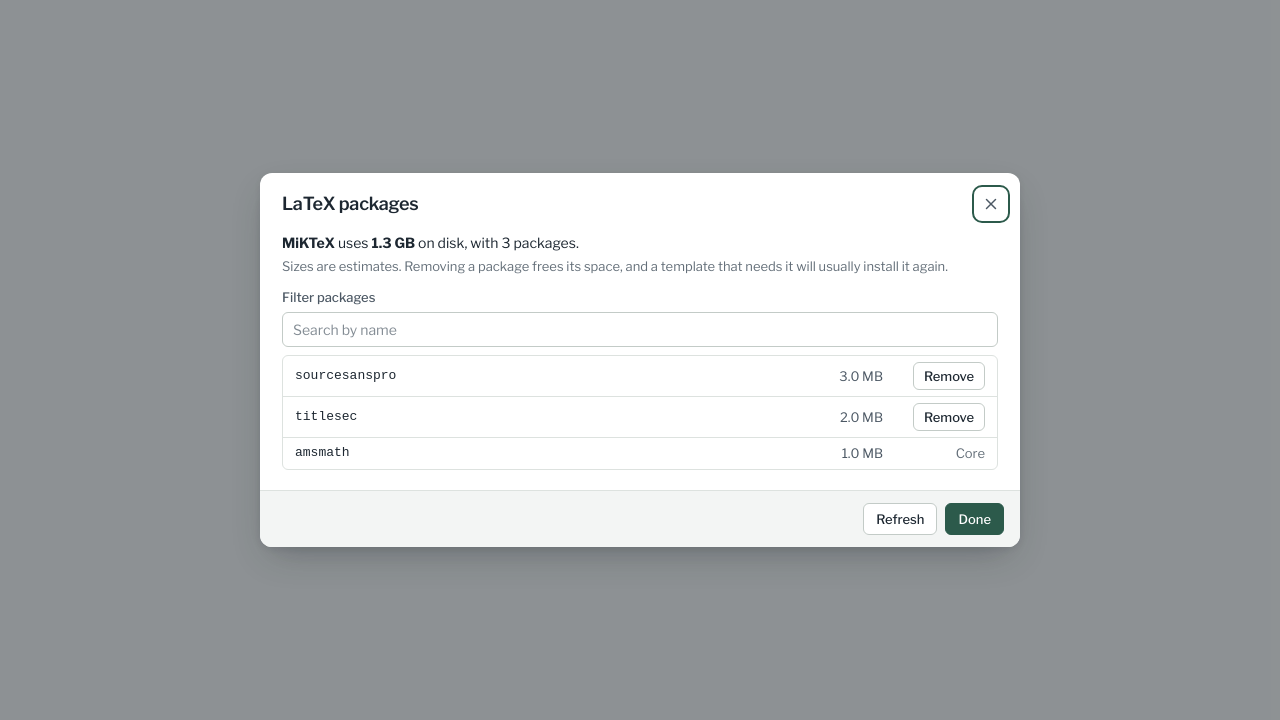
Scenario: PackageManager component › lets the user back out of a removal
expect the text "titlesec" is shown: met, box x1=295 y1=409 x2=357 y2=424
Click the button with aria-label "Remove titlesec" at [949, 417], box x1=913 y1=403 x2=985 y2=431
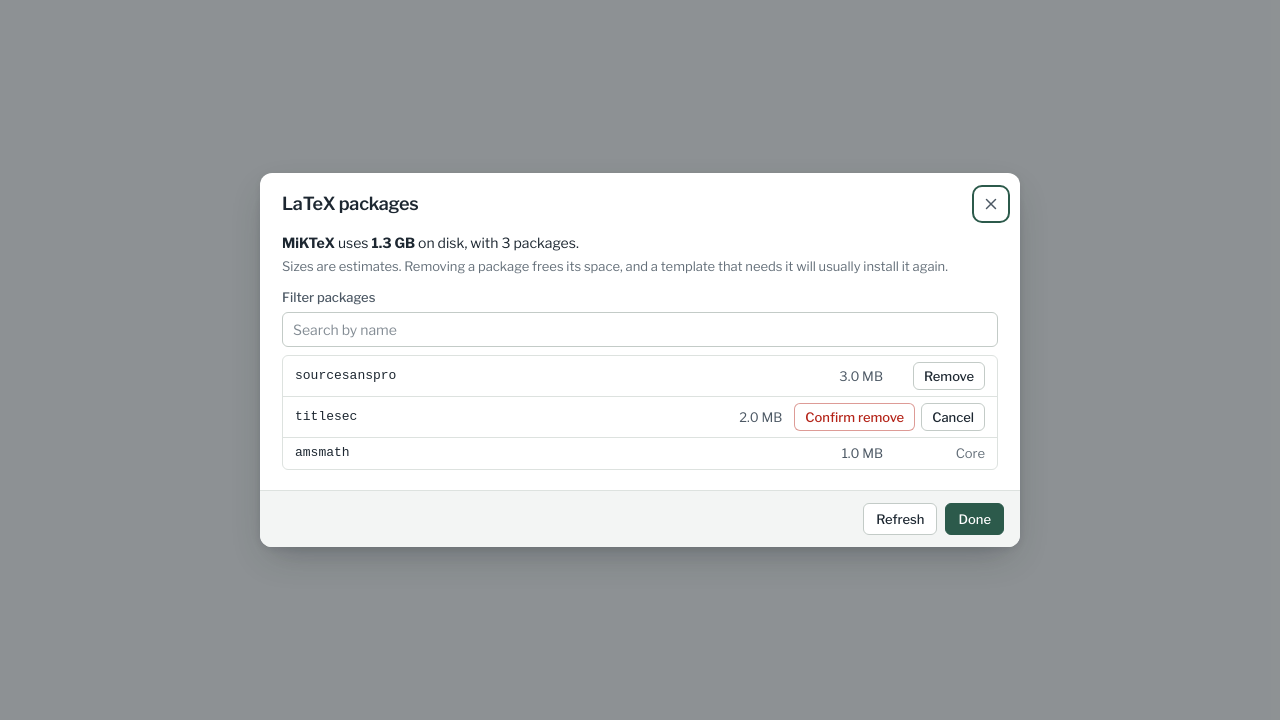
Click the button "Cancel" at [953, 417], box x1=921 y1=403 x2=985 y2=431
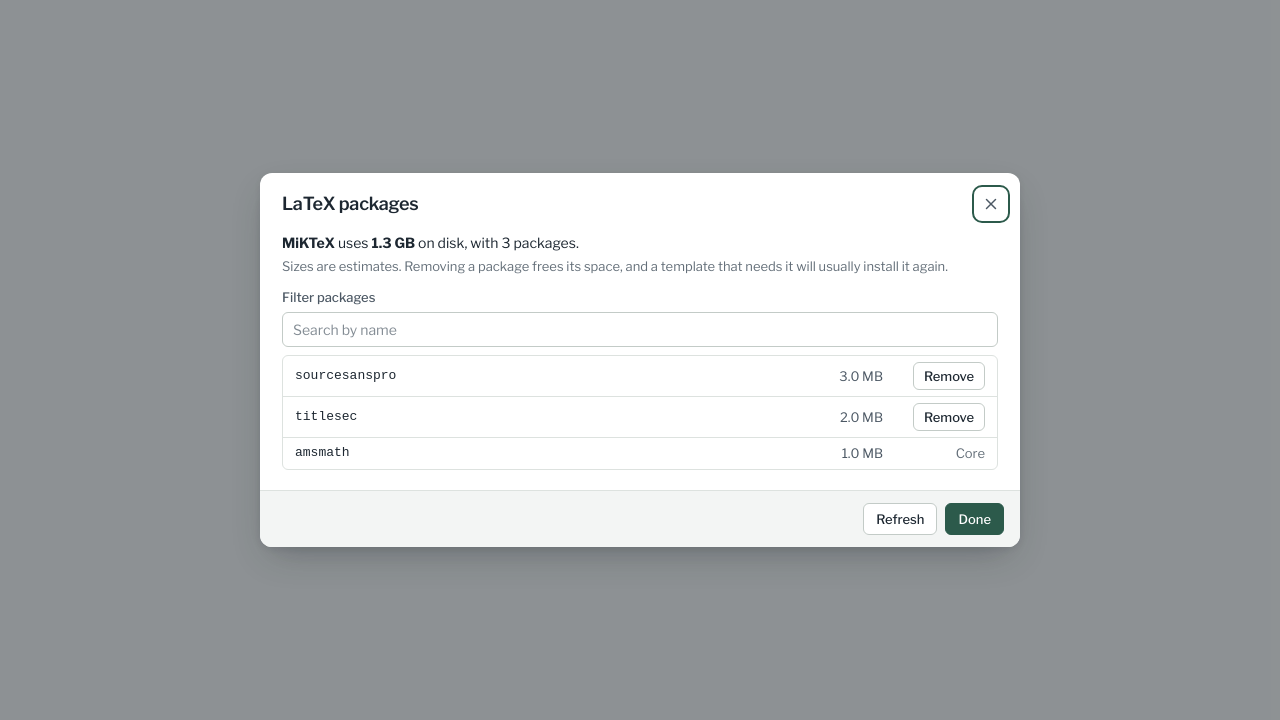
expect the button with aria-label "Remove titlesec" is shown: met, box x1=913 y1=403 x2=985 y2=431
